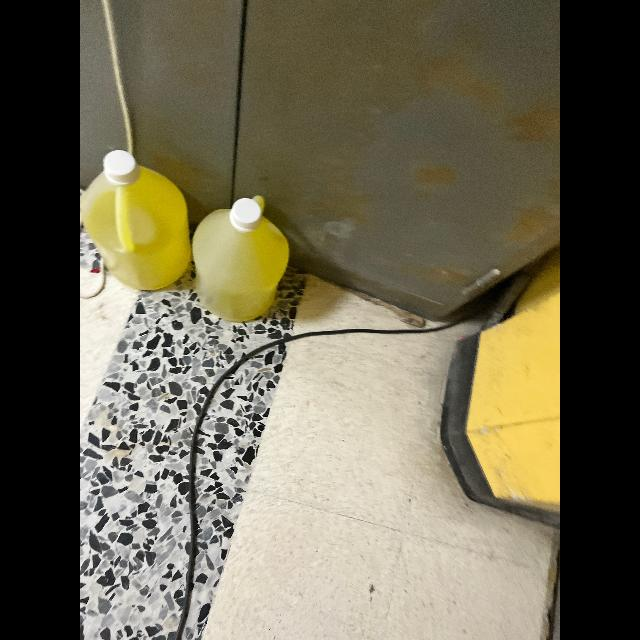chemical_plastic_gallon: (80, 142, 192, 300), (186, 190, 294, 336)
